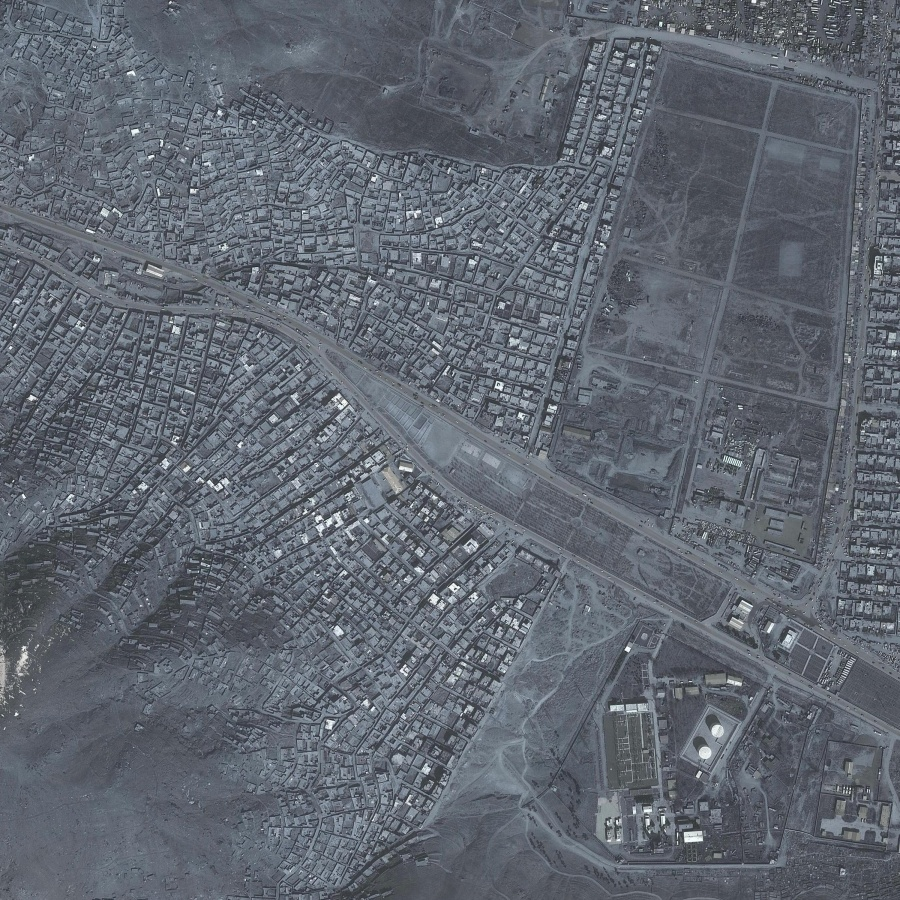PowerPlant: (605, 666, 748, 857)
